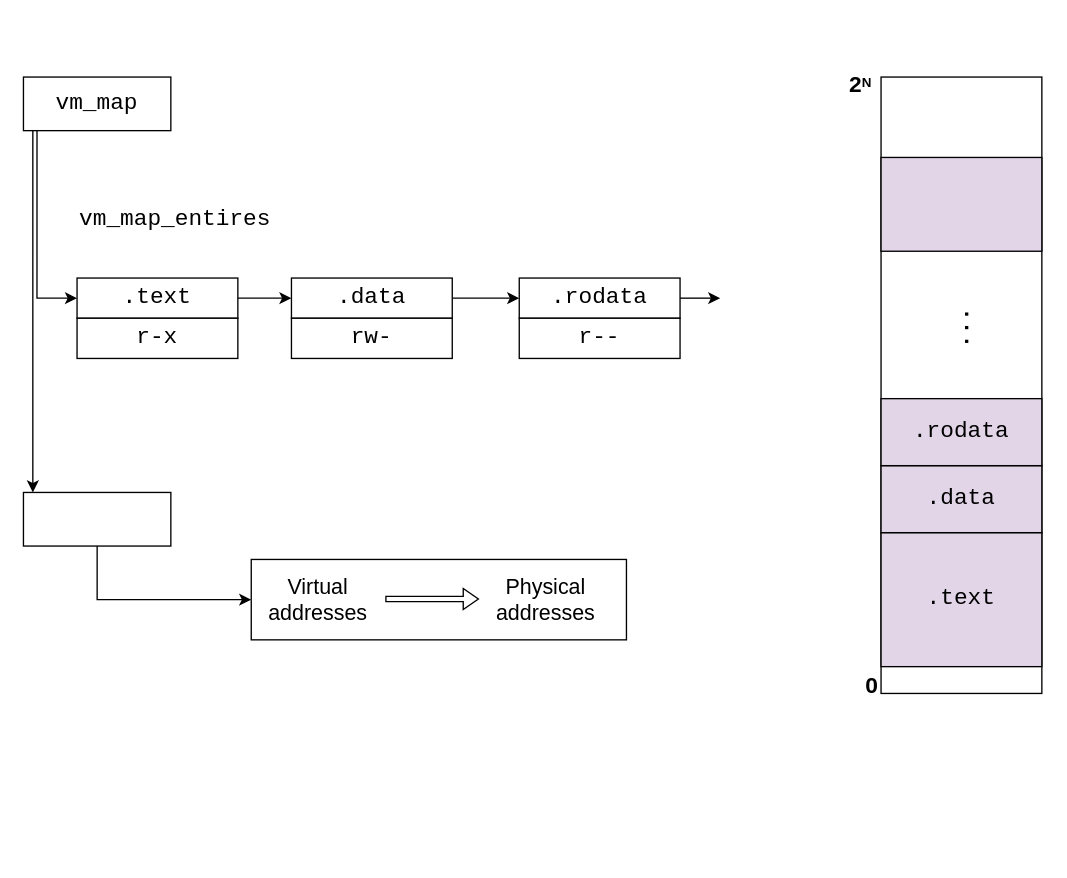
The diagram is 1067 pixels wide and 878 high, and some of its shapes have lost their labels. Each missing label, with the centre of its shape:
"pmap" belongs at point (96, 518).
"stack" belongs at point (961, 203).
